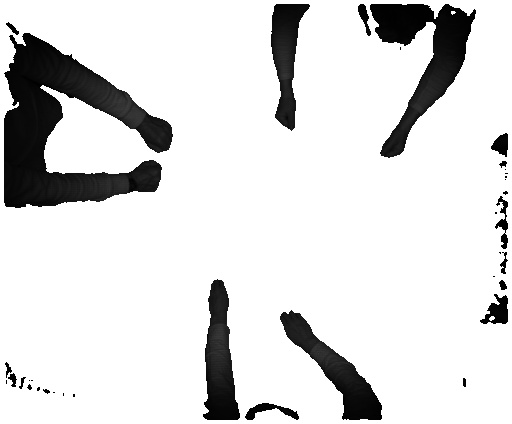fist: (140, 115, 175, 155), (133, 159, 167, 197), (376, 128, 412, 159), (272, 97, 295, 135)
hand: (280, 304, 318, 351), (208, 272, 231, 320)
